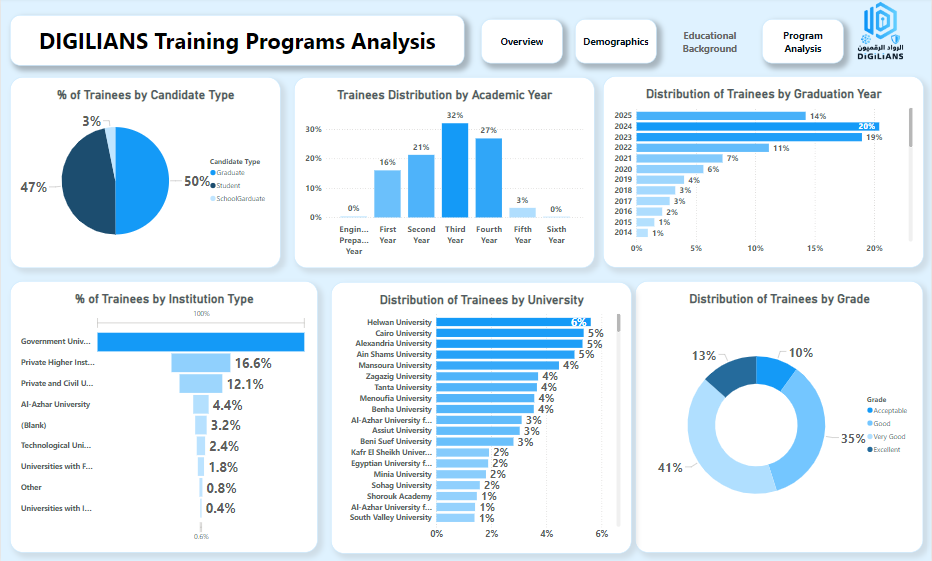

What the dashboard file says about the page in this screenshot:
{"tool":"powerbi","page":{"name":"Educational Background","canvas":[1800,1100],"ordinal":2},"visuals":[{"type":"funnel","title":"% of Trainees by Institution Type","fields":{"Category":["Sheet1 (2).Institution Type"],"Y":["CountNonNull(Trainees.National Id)"]},"box":[18,550,596,526],"z":0},{"type":"pieChart","title":"% of Trainees by Candidate Type ","fields":{"Category":["Sheet1 (2).Candidate Type"],"Y":["CountNonNull(Sheet1 (2).Candidate Type)"]},"box":[18,154,524,370],"z":1000},{"type":"donutChart","title":"Distribution of Trainees by Grade","fields":{"Category":["Sheet1 (2).Grade"],"Y":["CountNonNull(Trainees.National Id)"],"Series":["Sheet1 (2).Grade"]},"box":[1228,550,558,526],"z":2000},{"type":"barChart","title":"Distribution of Trainees by University","fields":{"Category":["Sheet1 (2).University"],"Y":["CountNonNull(Trainees.National Id)"]},"box":[640,552,582,526],"z":3000},{"type":"clusteredColumnChart","title":"Trainees Distribution by Academic Year","fields":{"Category":["Trainees.Academic Year"],"Y":["CountNonNull(Trainees.National Id)"]},"box":[568,154,582,370],"z":4000},{"type":"clusteredBarChart","title":"Distribution of Trainees by Graduation Year","fields":{"Category":["Trainees.Graduation Year"],"Y":["CountNonNull(Trainees.National Id)"]},"box":[1165.1,153.8,621,370.6],"z":5000},{"type":"image","box":[1606.7,0,192.4,132.6],"z":6000},{"type":"actionButton","title":"overview","box":[930.4,41.7,158,86],"z":7000},{"type":"actionButton","title":"overview","box":[1111.7,41.7,158,86],"z":8000},{"type":"actionButton","title":"overview","box":[1293.1,41.7,158,86],"z":9000},{"type":"actionButton","title":"overview","box":[1474.4,41.7,158,86],"z":10000},{"type":"shape","box":[18,34,880,98],"z":11000}]}

Visuals, with their boxes in screenshot pixels (x1, y1, x2, y2), scaled from the page's 1800x1100 canvas onto the 932x561 screenshot:
"% of Trainees by Institution Type" funnel: rect(9, 280, 318, 549)
"% of Trainees by Candidate Type " pieChart: rect(9, 79, 281, 267)
"Distribution of Trainees by Grade" donutChart: rect(636, 280, 925, 549)
"Distribution of Trainees by University" barChart: rect(331, 282, 633, 550)
"Trainees Distribution by Academic Year" clusteredColumnChart: rect(294, 79, 595, 267)
"Distribution of Trainees by Graduation Year" clusteredBarChart: rect(603, 78, 925, 267)
image: rect(832, 0, 931, 68)
"overview" actionButton: rect(482, 21, 564, 65)
"overview" actionButton: rect(576, 21, 657, 65)
"overview" actionButton: rect(670, 21, 751, 65)
"overview" actionButton: rect(763, 21, 845, 65)
shape: rect(9, 17, 465, 67)
